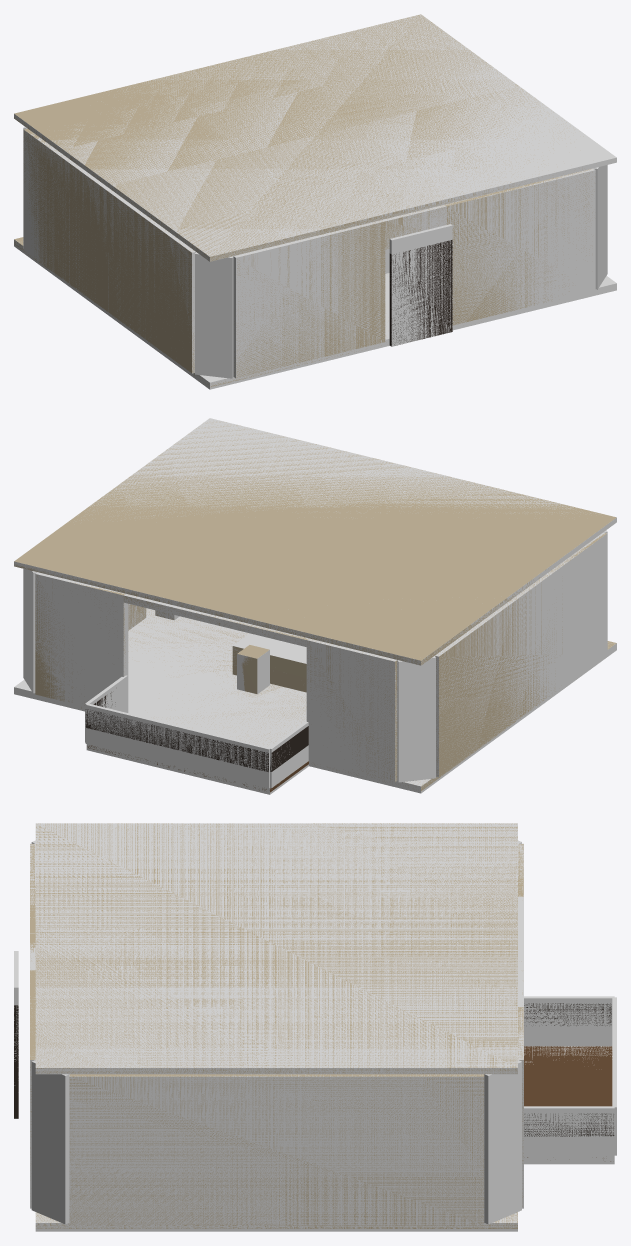
The model's file is graybox.glb.
3 views of the same model, one above another, from view 1: azimuth 30°, elevation 25°; view 2: azimuth 150°, elevation 25°; view 3: azimuth 270°, elevation 25° (orthographic). The views are drawn at different scales.
Parts seen in each view (by area): view 1: COL_A07_roof, VIS_A07_gray_roof, VIS_A03_side, COL_A03_wall.002, COL_A03_wall.003, VIS_A03_wall.002, COL_A03_side, VIS_A03_wall.003, COL_A09_exit_boundary, COL_A03_chamfer.001, VIS_A09_gray, COL_A01_floor (+3 smaller); view 2: VIS_A07_gray_roof, COL_A07_roof, COL_A03_side, COL_A01_floor, VIS_A03_side, COL_A03_wall, COL_A03_wall.001, COL_A14_guard, COL_A03_chamfer, VIS_A14_guard, VIS_A03_wall.001, COL_A03_lintel (+11 smaller); view 3: COL_A07_roof, VIS_A07_gray_roof, COL_A03_side.001, VIS_A03_side.001, COL_A03_chamfer.003, COL_A03_chamfer.002, VIS_A13_terrace, COL_A14_guard.002, COL_A14_guard.001, COL_A01_floor, VIS_A01_floor, COL_A13_terrace (+7 smaller).
Boxes of the visible parts, bbox=[...] form: COL_A07_roof: bbox=[14, 14, 616, 261]; VIS_A07_gray_roof: bbox=[14, 14, 583, 261]; VIS_A03_side: bbox=[23, 128, 194, 372]; COL_A03_wall.002: bbox=[233, 220, 385, 378]; COL_A03_wall.003: bbox=[445, 168, 595, 325]; VIS_A03_wall.002: bbox=[234, 220, 385, 377]; COL_A03_side: bbox=[23, 130, 195, 373]; VIS_A03_wall.003: bbox=[444, 169, 594, 325]; COL_A09_exit_boundary: bbox=[389, 224, 452, 346]; COL_A03_chamfer.001: bbox=[195, 252, 233, 378]; VIS_A09_gray: bbox=[389, 240, 452, 346]; COL_A01_floor: bbox=[14, 239, 616, 389]; VIS_A07_gray_roof: bbox=[14, 421, 616, 665]; COL_A07_roof: bbox=[14, 418, 616, 665]; COL_A03_side: bbox=[435, 532, 607, 777]; COL_A01_floor: bbox=[14, 608, 616, 793]; VIS_A03_side: bbox=[436, 533, 606, 776]; COL_A03_wall: bbox=[306, 638, 397, 782]; COL_A03_wall.001: bbox=[35, 572, 128, 712]; COL_A14_guard: bbox=[85, 704, 269, 788]; COL_A03_chamfer: bbox=[397, 656, 435, 782]; VIS_A14_guard: bbox=[86, 709, 268, 771]; VIS_A03_wall.001: bbox=[35, 575, 125, 705]; COL_A03_lintel: bbox=[123, 594, 308, 646]; COL_A07_roof: bbox=[35, 823, 517, 1074]; VIS_A07_gray_roof: bbox=[35, 823, 517, 1073]; COL_A03_side.001: bbox=[69, 1074, 484, 1225]; VIS_A03_side.001: bbox=[69, 1074, 484, 1225]; COL_A03_chamfer.003: bbox=[31, 1060, 69, 1224]; COL_A03_chamfer.002: bbox=[484, 1060, 521, 1224]; VIS_A13_terrace: bbox=[524, 1046, 612, 1161]; COL_A14_guard.002: bbox=[524, 1106, 614, 1156]; COL_A14_guard.001: bbox=[524, 996, 614, 1046]; COL_A01_floor: bbox=[35, 1212, 517, 1231]; VIS_A01_floor: bbox=[35, 1212, 517, 1228]; COL_A13_terrace: bbox=[524, 1046, 614, 1164].
Size of the model in its own units: 12.24 by 3.74 by 12.5.
